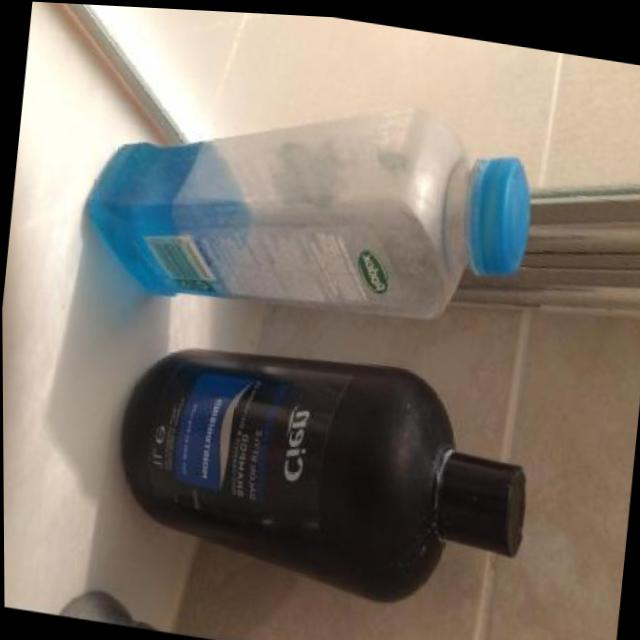plastic: (77, 52, 541, 358), (105, 321, 541, 628)
